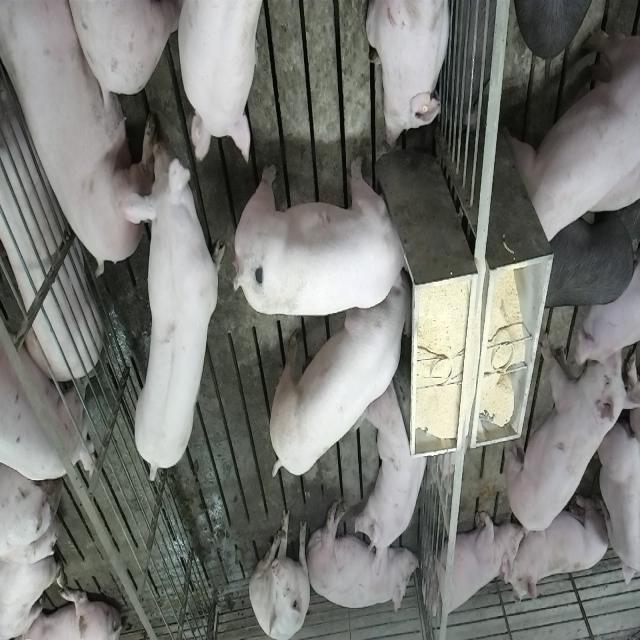Feeding: (264, 272, 412, 480), (228, 156, 410, 318)
Lateral_lying: (4, 1, 162, 272), (0, 39, 102, 383), (306, 500, 421, 616)
Sitting: (250, 508, 312, 638)
Standing: (130, 140, 220, 486), (508, 25, 638, 247), (503, 326, 629, 530), (0, 290, 94, 478), (178, 0, 272, 165), (544, 198, 636, 314)
Sternal_lying: (356, 381, 433, 568), (366, 0, 452, 150), (504, 490, 610, 605), (425, 507, 515, 627)
